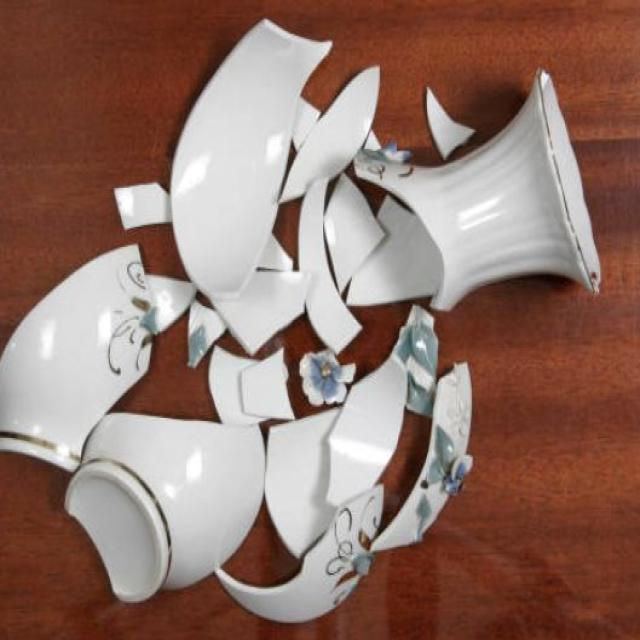electronic: (0, 16, 602, 628)
